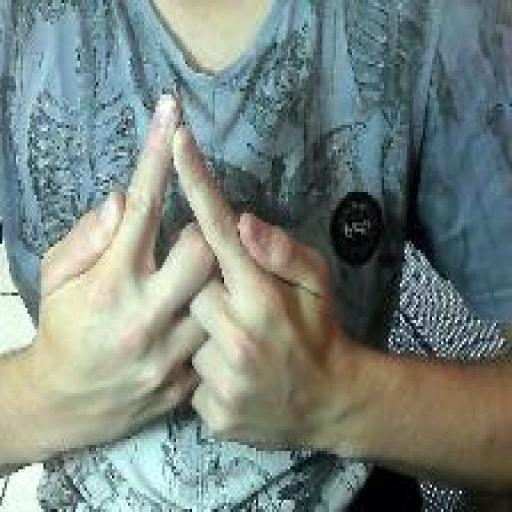Uma -horse-: (34, 86, 336, 466)
